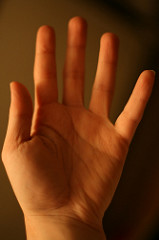palm: (23, 104, 126, 218)
